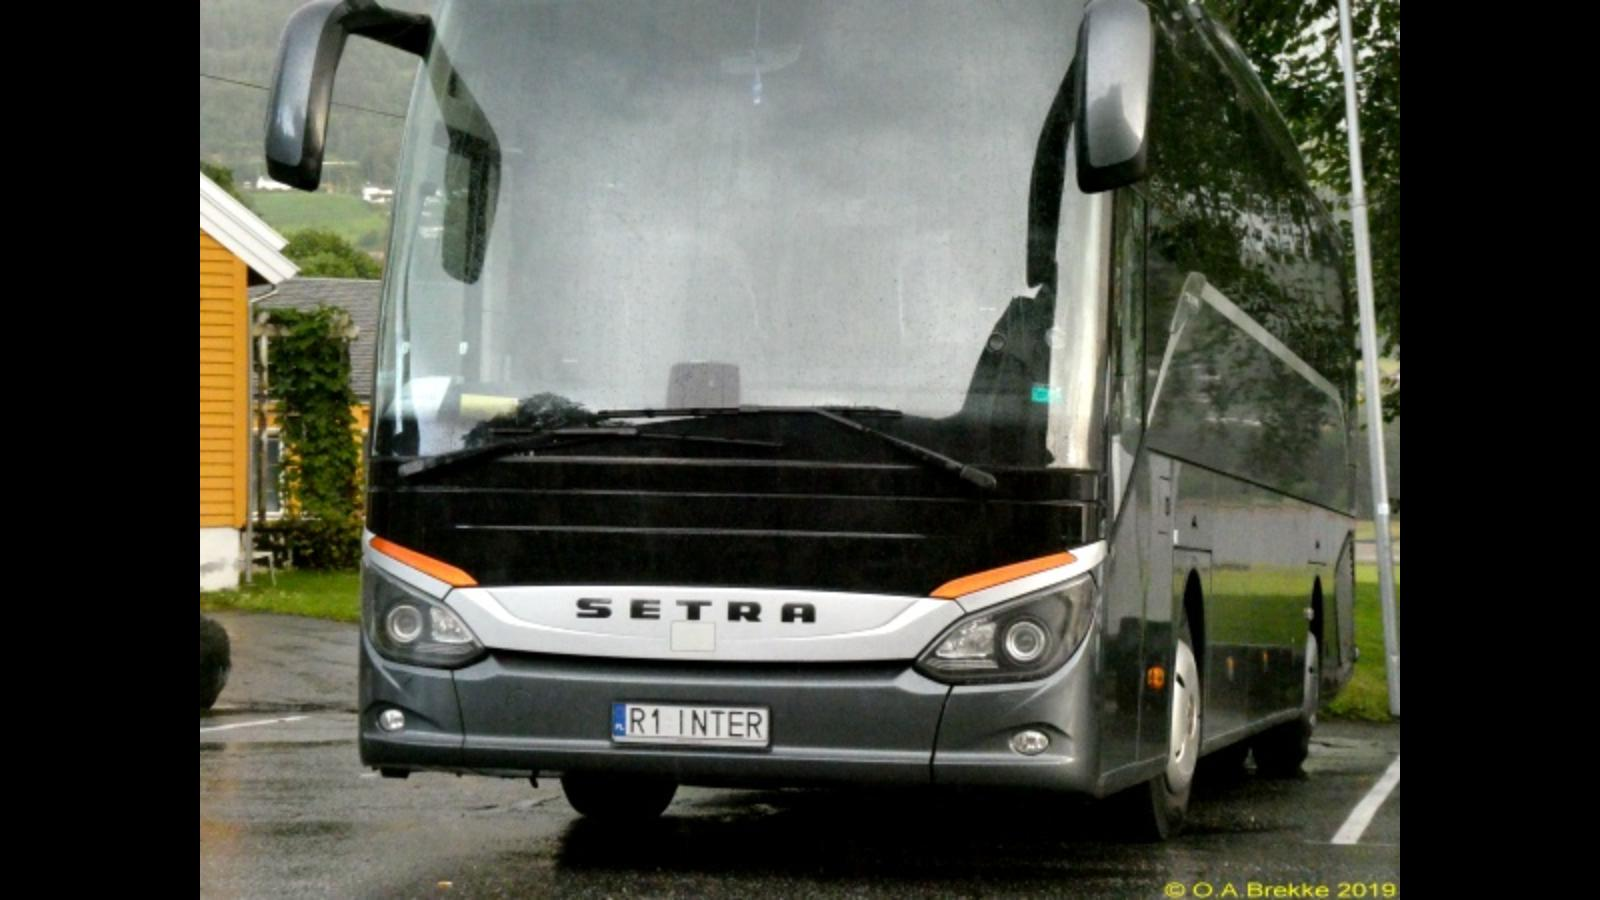plates: (611, 700, 771, 746)
